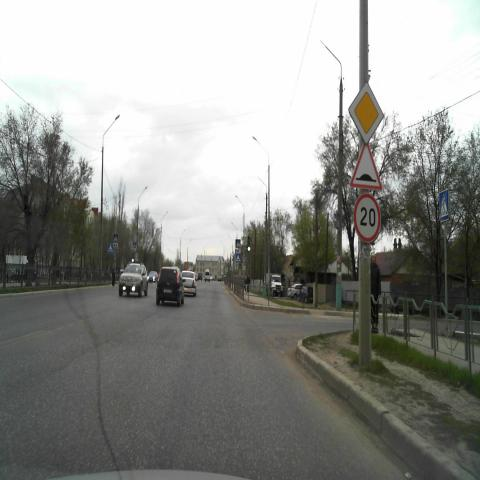1_17: (350, 142, 384, 192)
2_1: (348, 81, 386, 143)
3_24: (355, 194, 382, 244)
5_19_1: (438, 190, 451, 223), (235, 239, 241, 248)
5_20: (236, 254, 241, 262)
